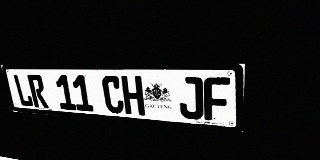1: (70, 75, 94, 112), (54, 75, 77, 110)
C: (101, 75, 125, 114)
F: (204, 77, 230, 122)
H: (121, 76, 145, 116)
J: (178, 77, 203, 120)
L: (12, 74, 34, 107)
R: (27, 74, 49, 108)
